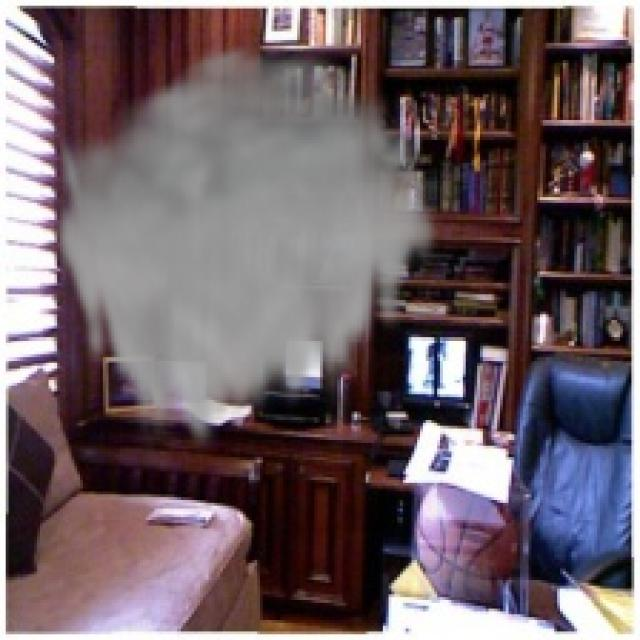smoke: (51, 37, 443, 463)
